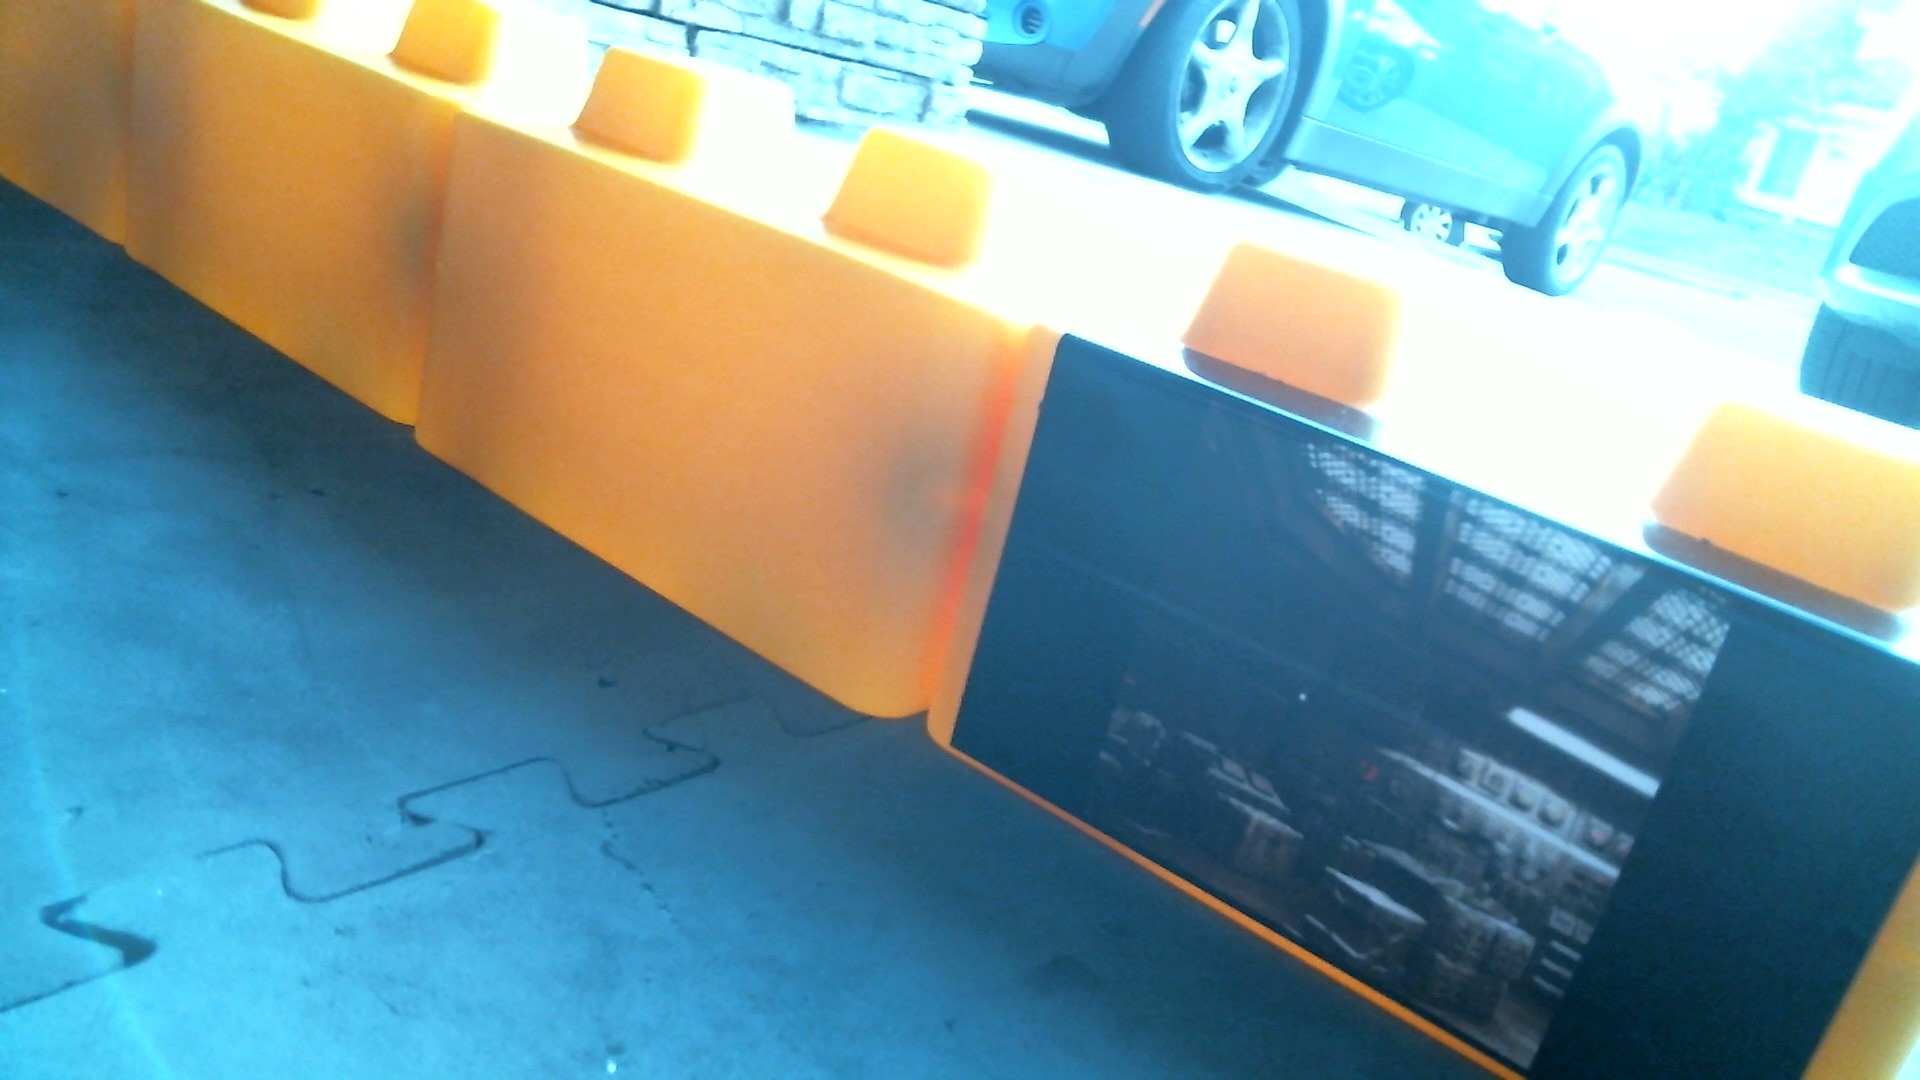right: (128, 4, 1919, 1071)
